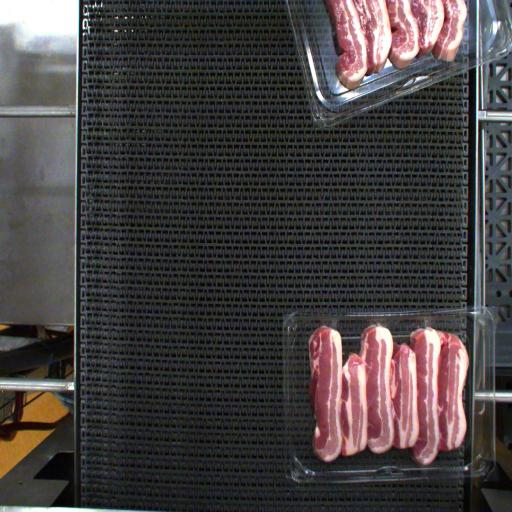packaging-error: (359, 310, 390, 333), (317, 311, 339, 334)
